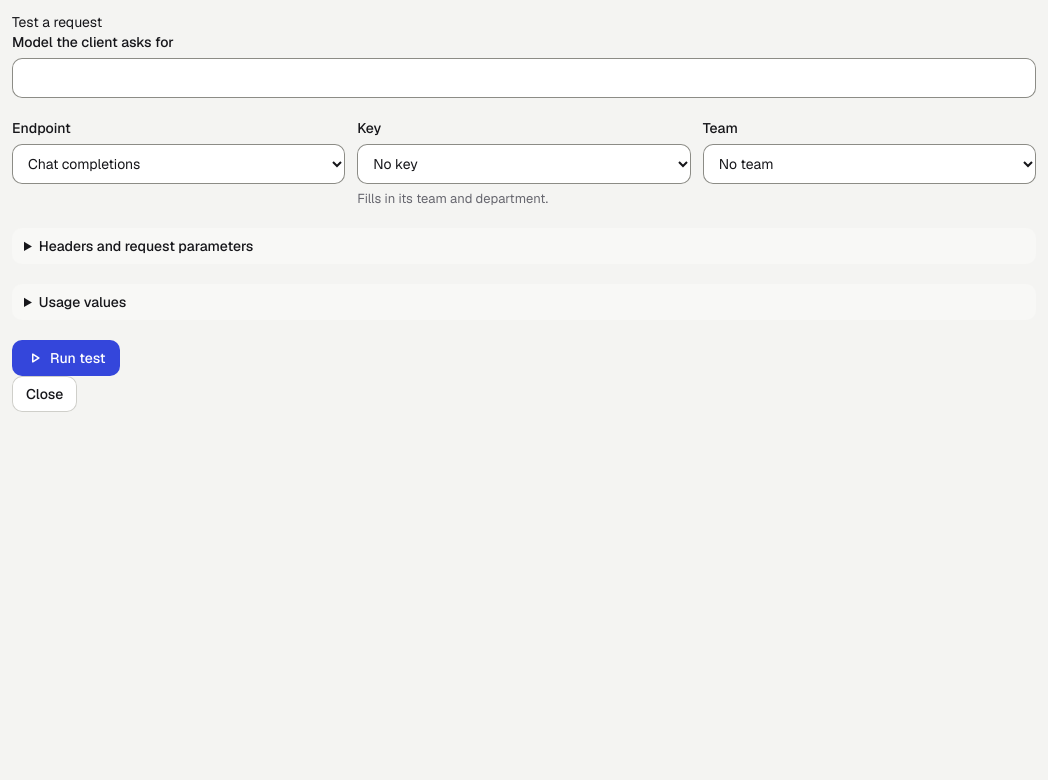
Test case: RuleTestDialog › warns when a chain was cut off
Step 1. Type "gpt-4" into the field with id "test-model" → (524, 78), box [12,58,1036,98]
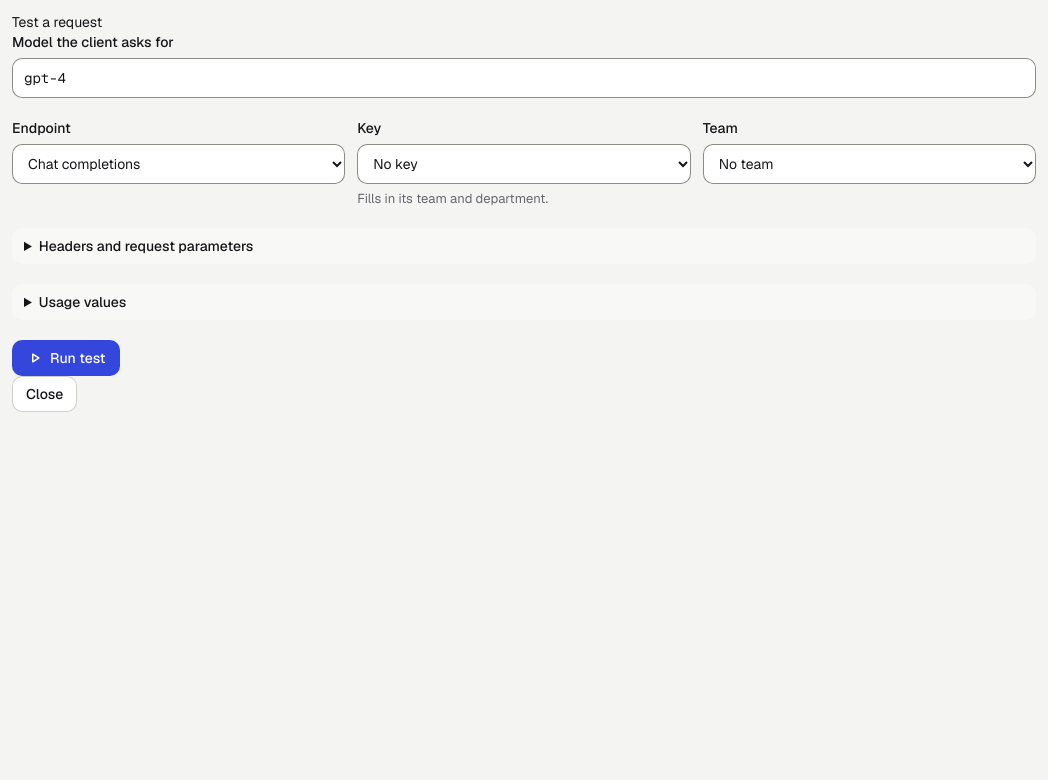
Step 2. Submit the form, box [12,32,1036,376]
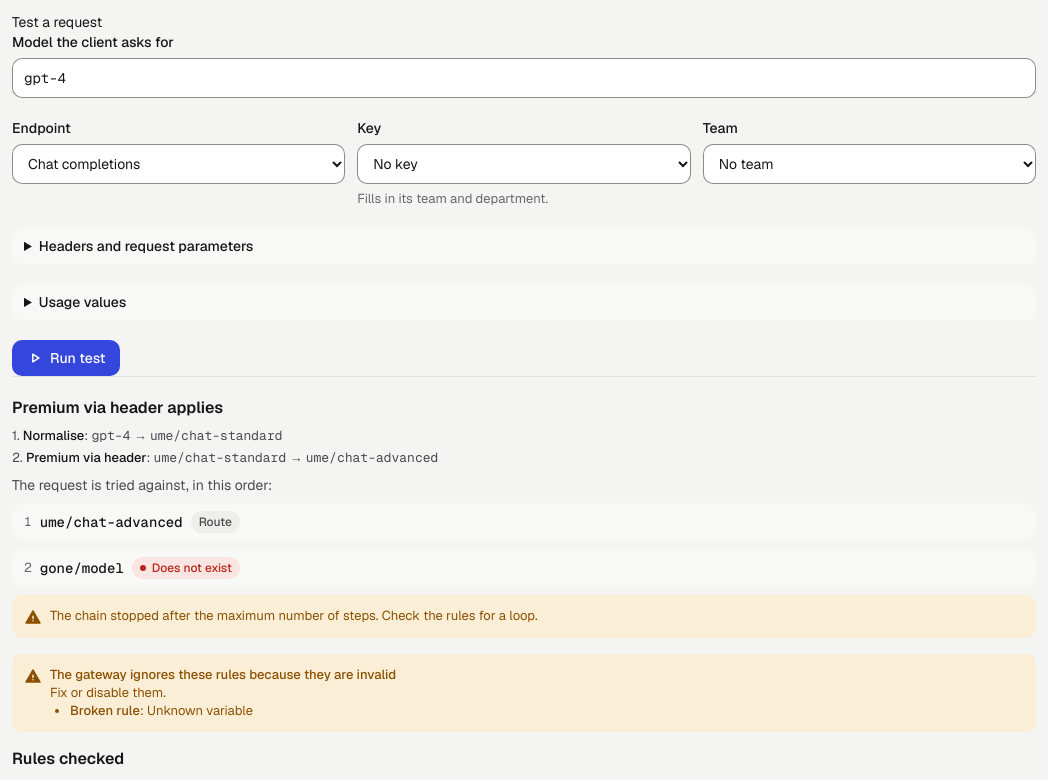
expect the text "The chain stopped after the maximum number of steps." is shown: met, box [50,607,538,624]
